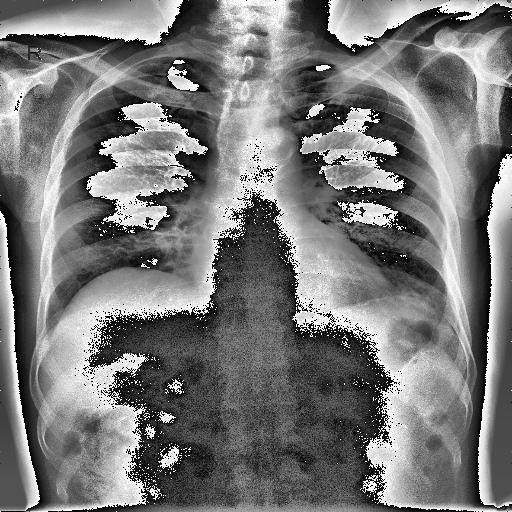0- Aortic enlargement: (250, 126, 302, 186)
13- Pulmonary fibrosis: (110, 126, 138, 136)
7- Lung Opacity: (388, 266, 464, 332), (114, 120, 138, 136)
8- Nodule-Mass: (176, 66, 183, 70)
9- Other lesion: (118, 122, 138, 136), (145, 90, 159, 102), (174, 63, 186, 73)
